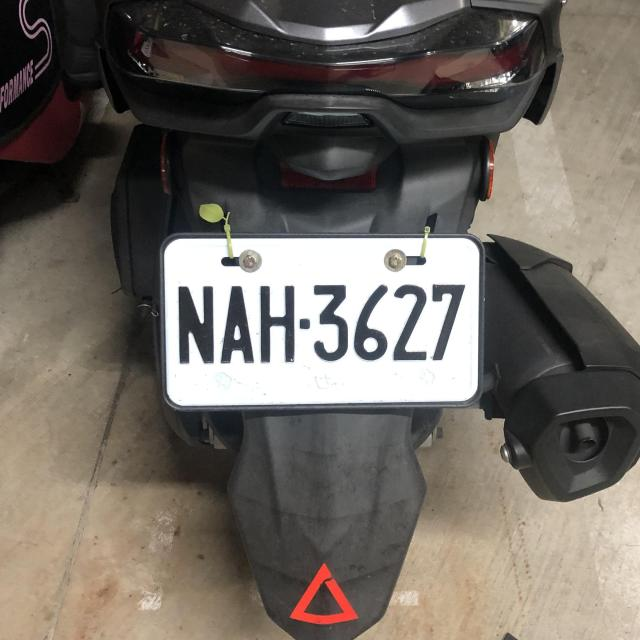W: (157, 233, 485, 410)
